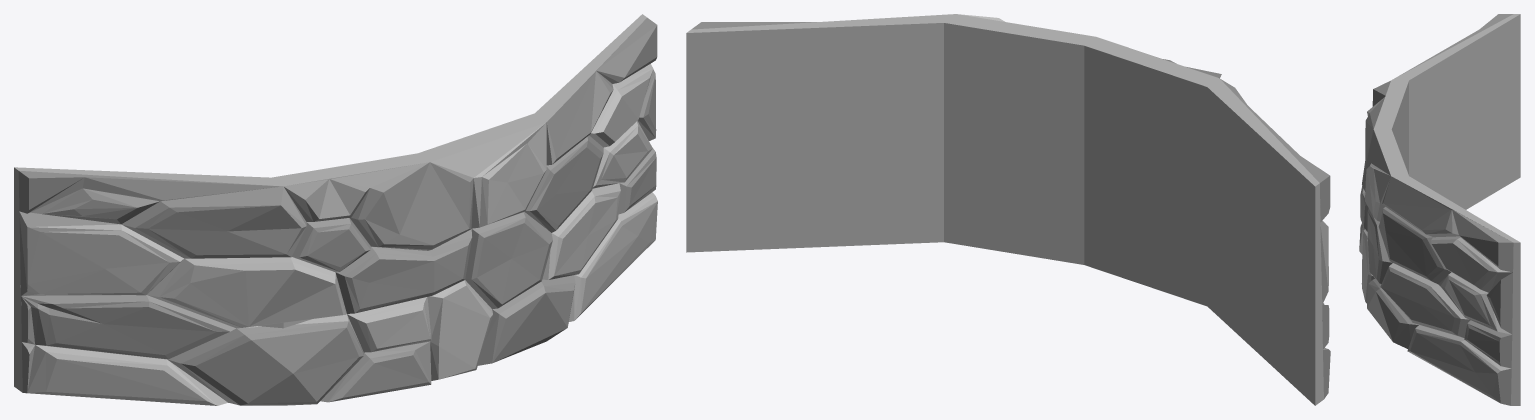
File: _FOUNDATION_02_1.fbx
The picture shows the model from 3 angles, left to right: view 1: azimuth 30°, elevation 25°; view 2: azimuth 150°, elevation 25°; view 3: azimuth 270°, elevation 25°; orthographic projection. The views are drawn at different scales.
Parts seen in each view (by area): view 1: FOUNDATION_02_1; view 2: FOUNDATION_02_1; view 3: FOUNDATION_02_1.
Boxes of the visible parts, box(x1,y1,x2,y2) form: FOUNDATION_02_1: box(14, 14, 657, 405); FOUNDATION_02_1: box(686, 14, 1330, 405); FOUNDATION_02_1: box(1359, 14, 1520, 405).
Bounding box in the file's own units: 300 × 100 × 89.62.
